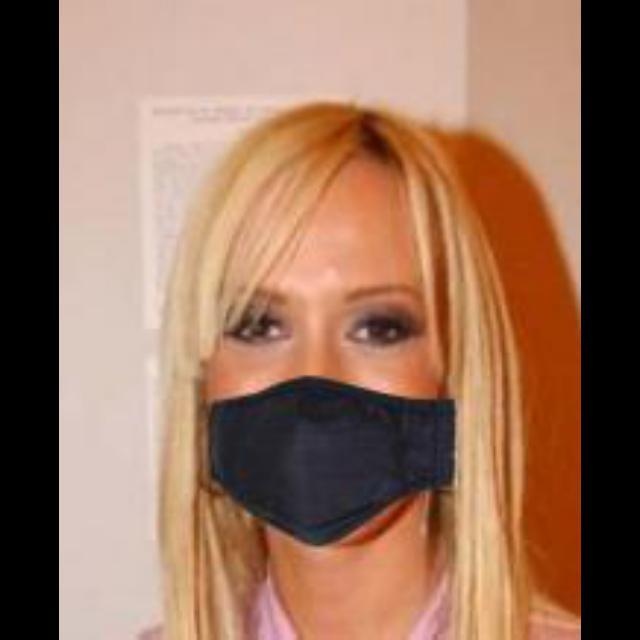suspicion: (184, 47, 530, 575)
